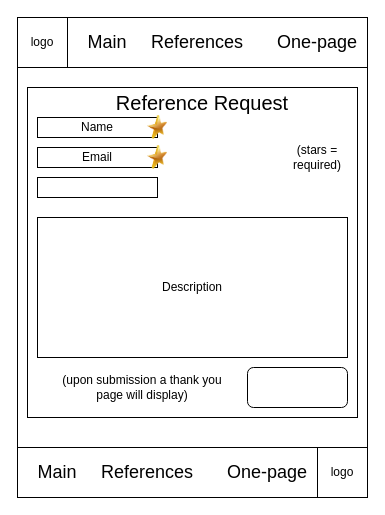
The diagram is 385 pixels wide and 515 high, and some of its shapes have lost their labels. The box of each missing label's shape, as (x1, y1, x2, y2) in pixels:
Company: (36, 176, 158, 198)
SUBMIT: (246, 366, 348, 408)
